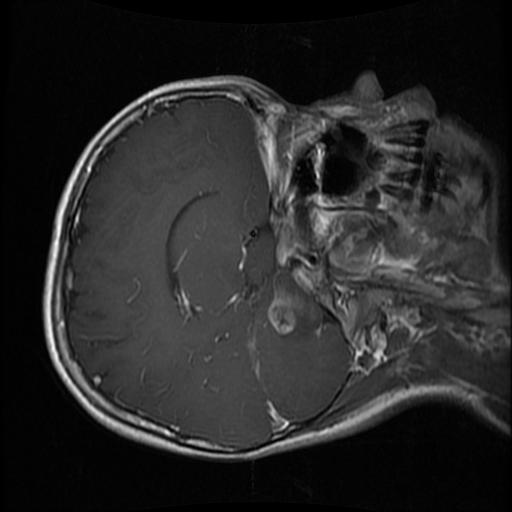glioma: (268, 285, 320, 338)
